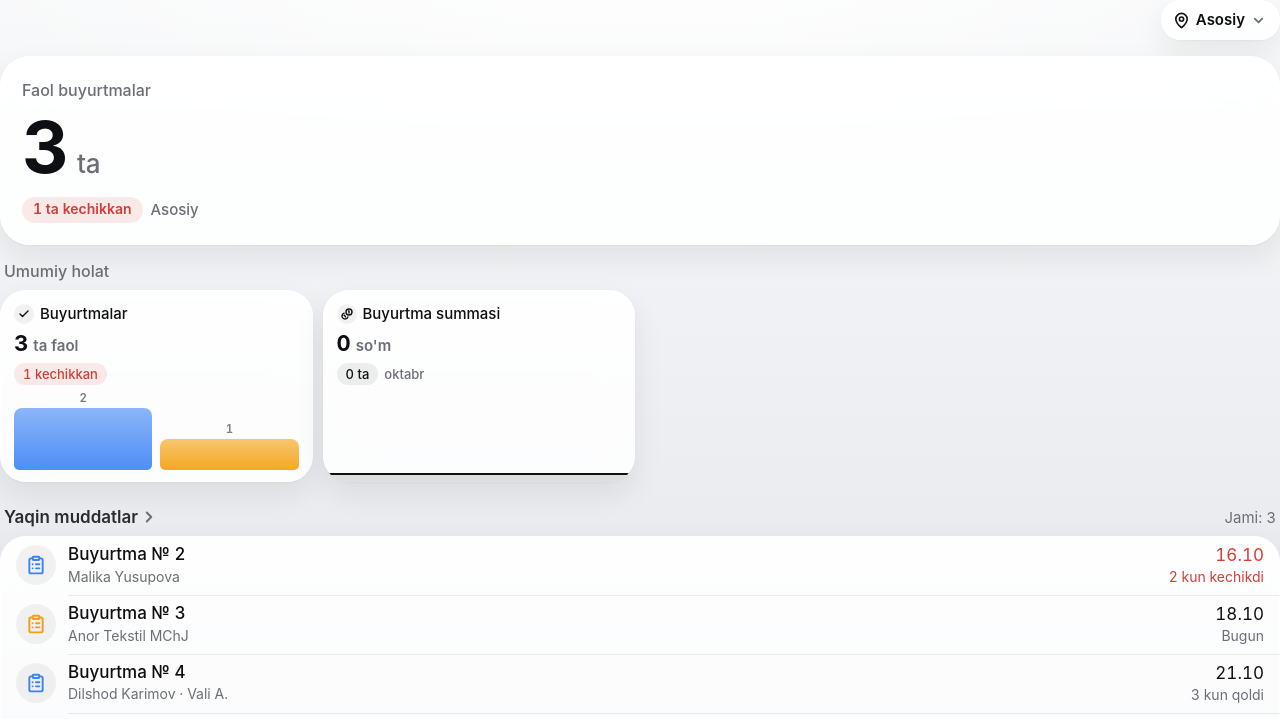
Scenario: an employee whose role sees the orders alone is headed by the orders of the current location, and switching it switches them
The width and height of the screenshot is (1280, 719).
Check: the link "Faol buyurtmalar 3 ta 1 ta kechikkan Asosiy" is shown, box [0,56,1279,245]
Click the button with aria-label "Lokatsiya: Asosiy" at (1220, 20), box [1161,0,1279,40]
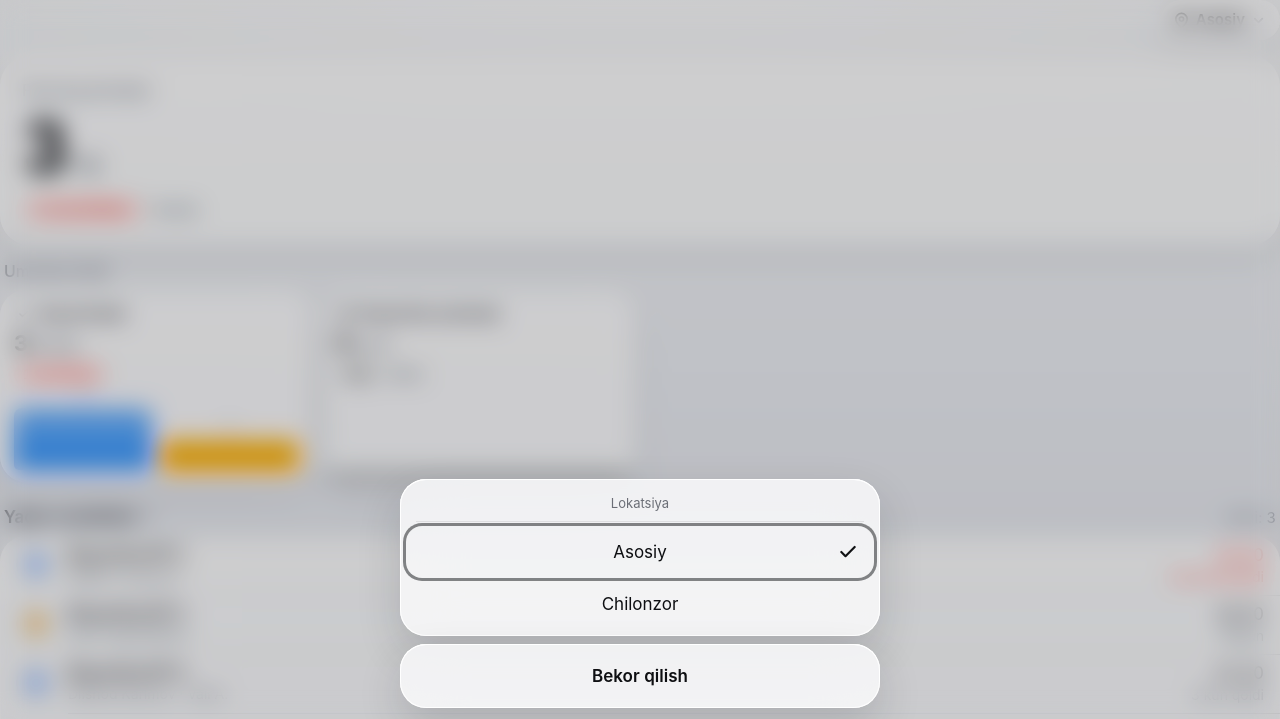
Click the menu item "Chilonzor" at (640, 604), box [406,578,874,630]
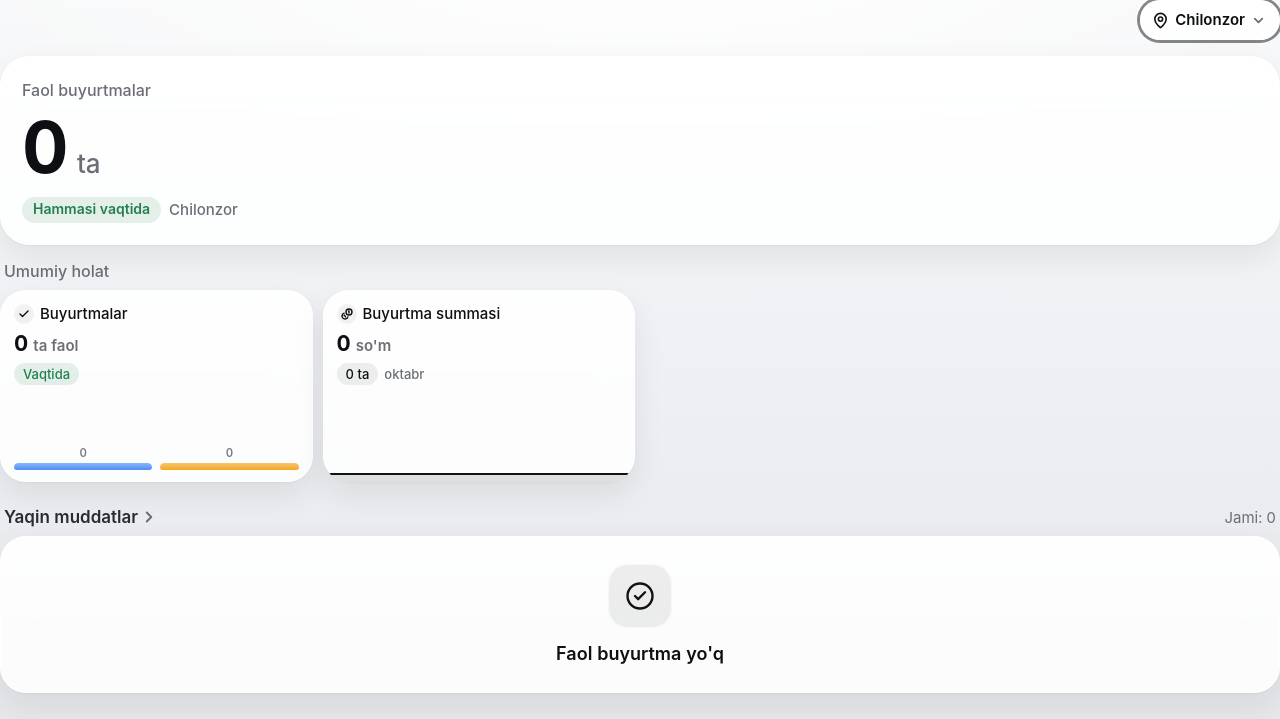
Check: the link "Faol buyurtmalar 0 ta Hammasi vaqtida Chilonzor" is shown, box [0,56,1279,245]
